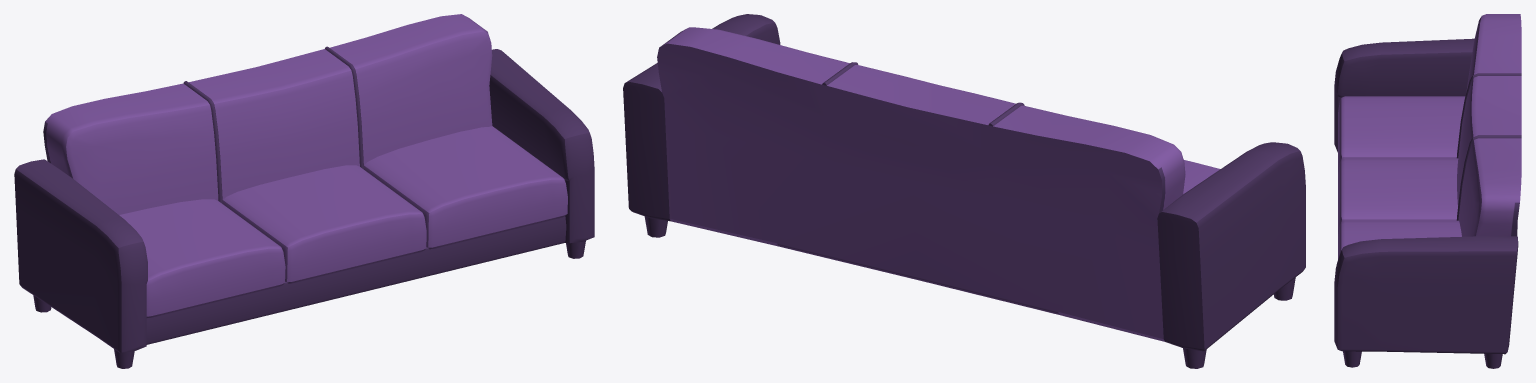
The model's file is couch purple.glb.
The picture shows the model from 3 angles, left to right: view 1: azimuth 30°, elevation 25°; view 2: azimuth 150°, elevation 25°; view 3: azimuth 270°, elevation 25°; orthographic projection. The views are drawn at different scales.
Visible parts, largest first — view 1: Couch_LOD0; view 2: Couch_LOD0; view 3: Couch_LOD0.
Part boxes in pixels (<box>): Couch_LOD0: <box>14,14,594,368</box>; Couch_LOD0: <box>623,14,1305,368</box>; Couch_LOD0: <box>1334,14,1521,368</box>.
Bounding box in the file's own units: 2.5 × 0.8829 × 0.9203.
Materials: 1 (1 with a texture image).
